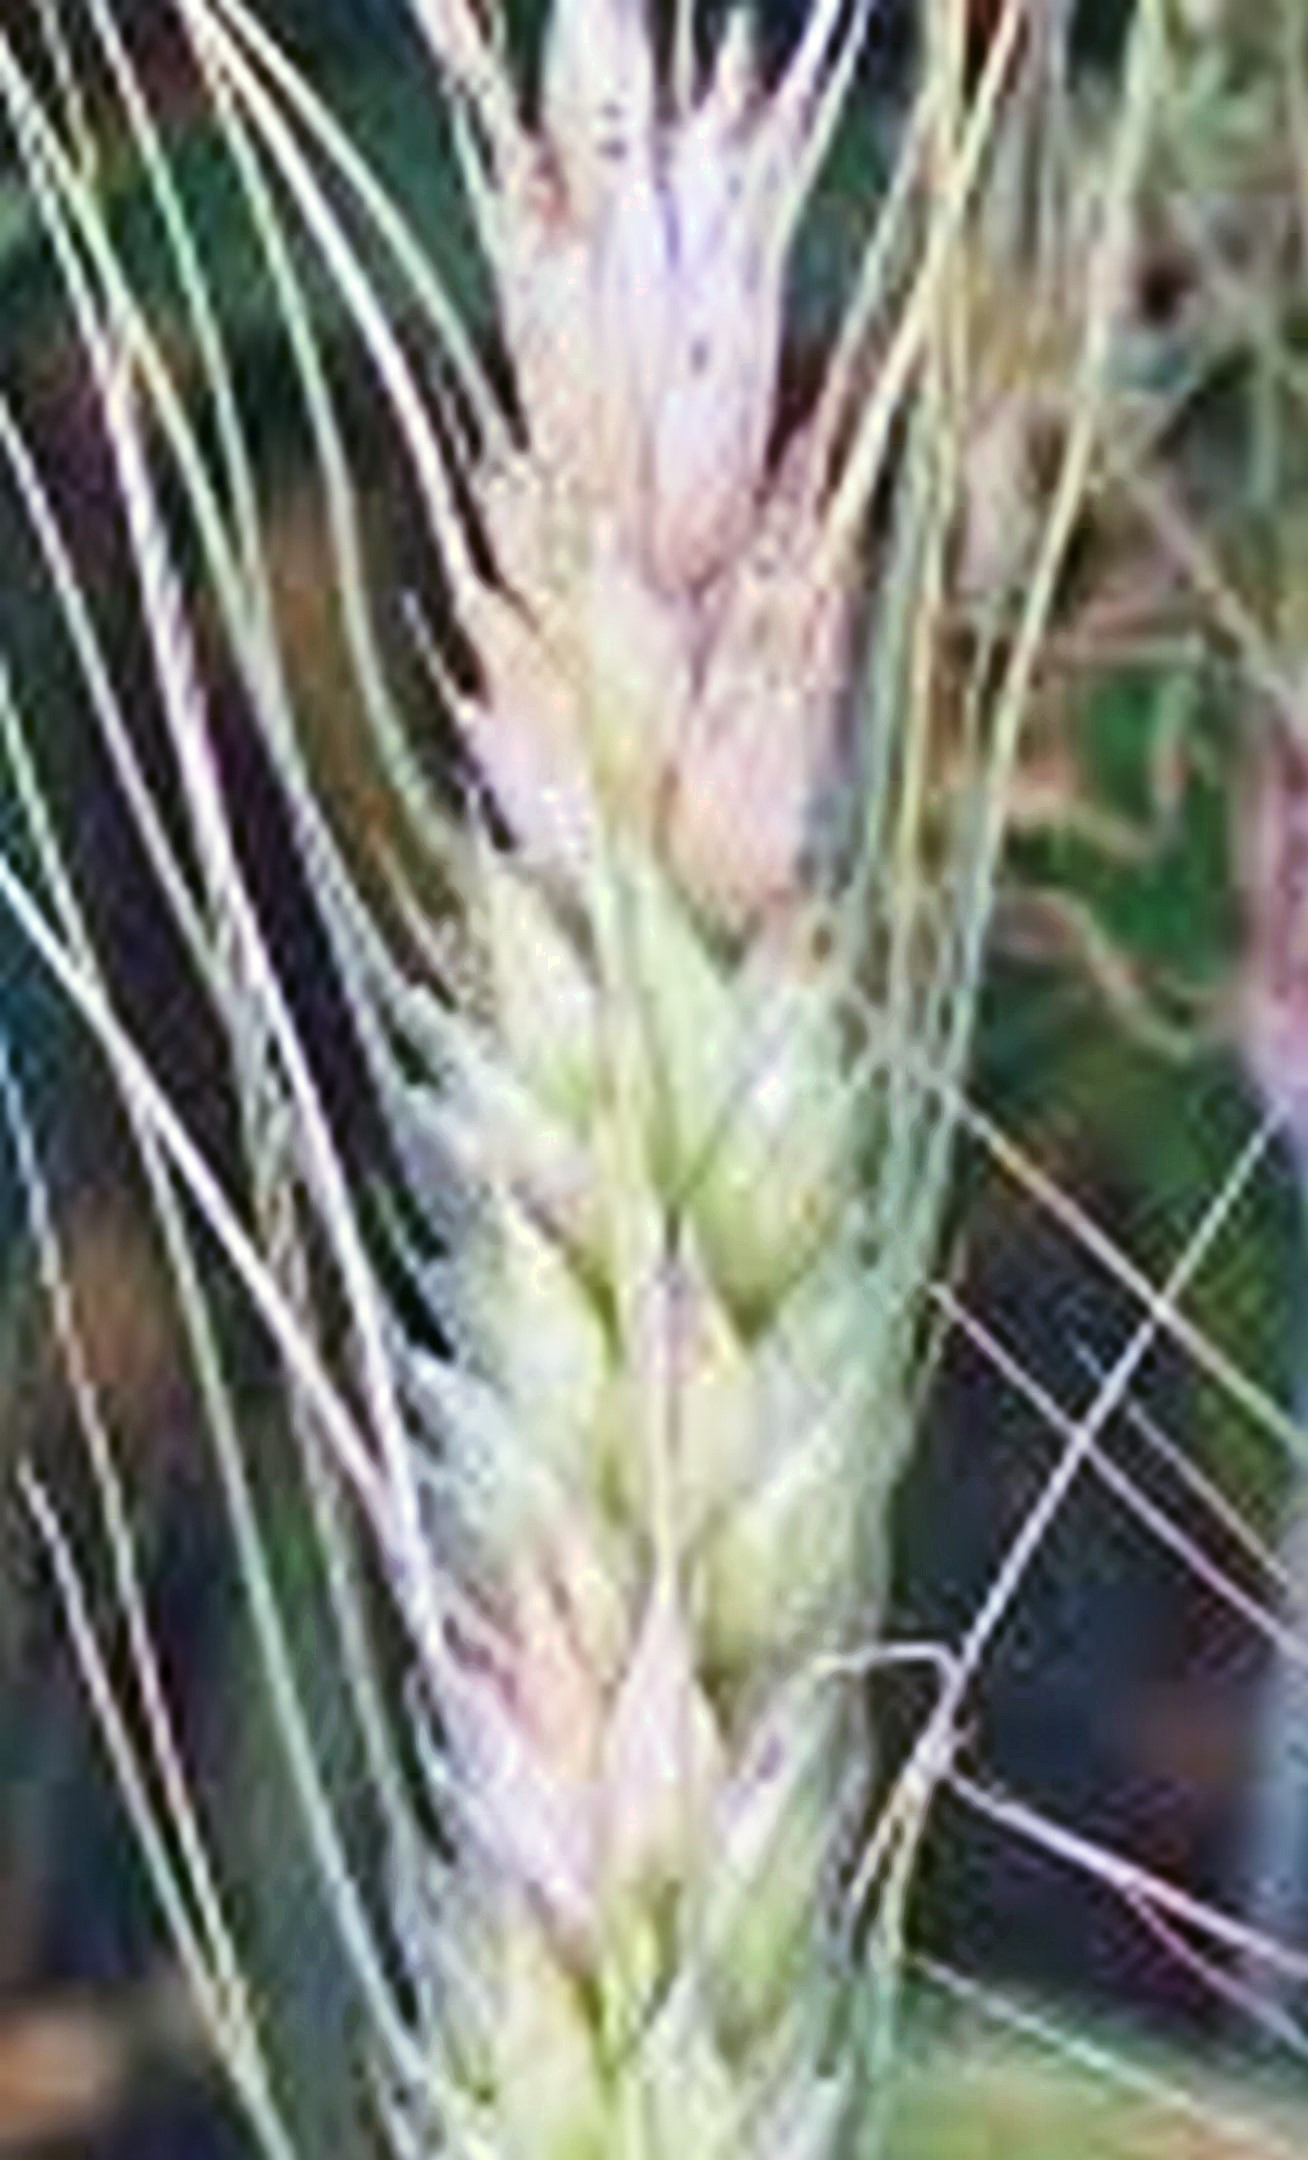Wheat scab: (356, 89, 986, 2132)
